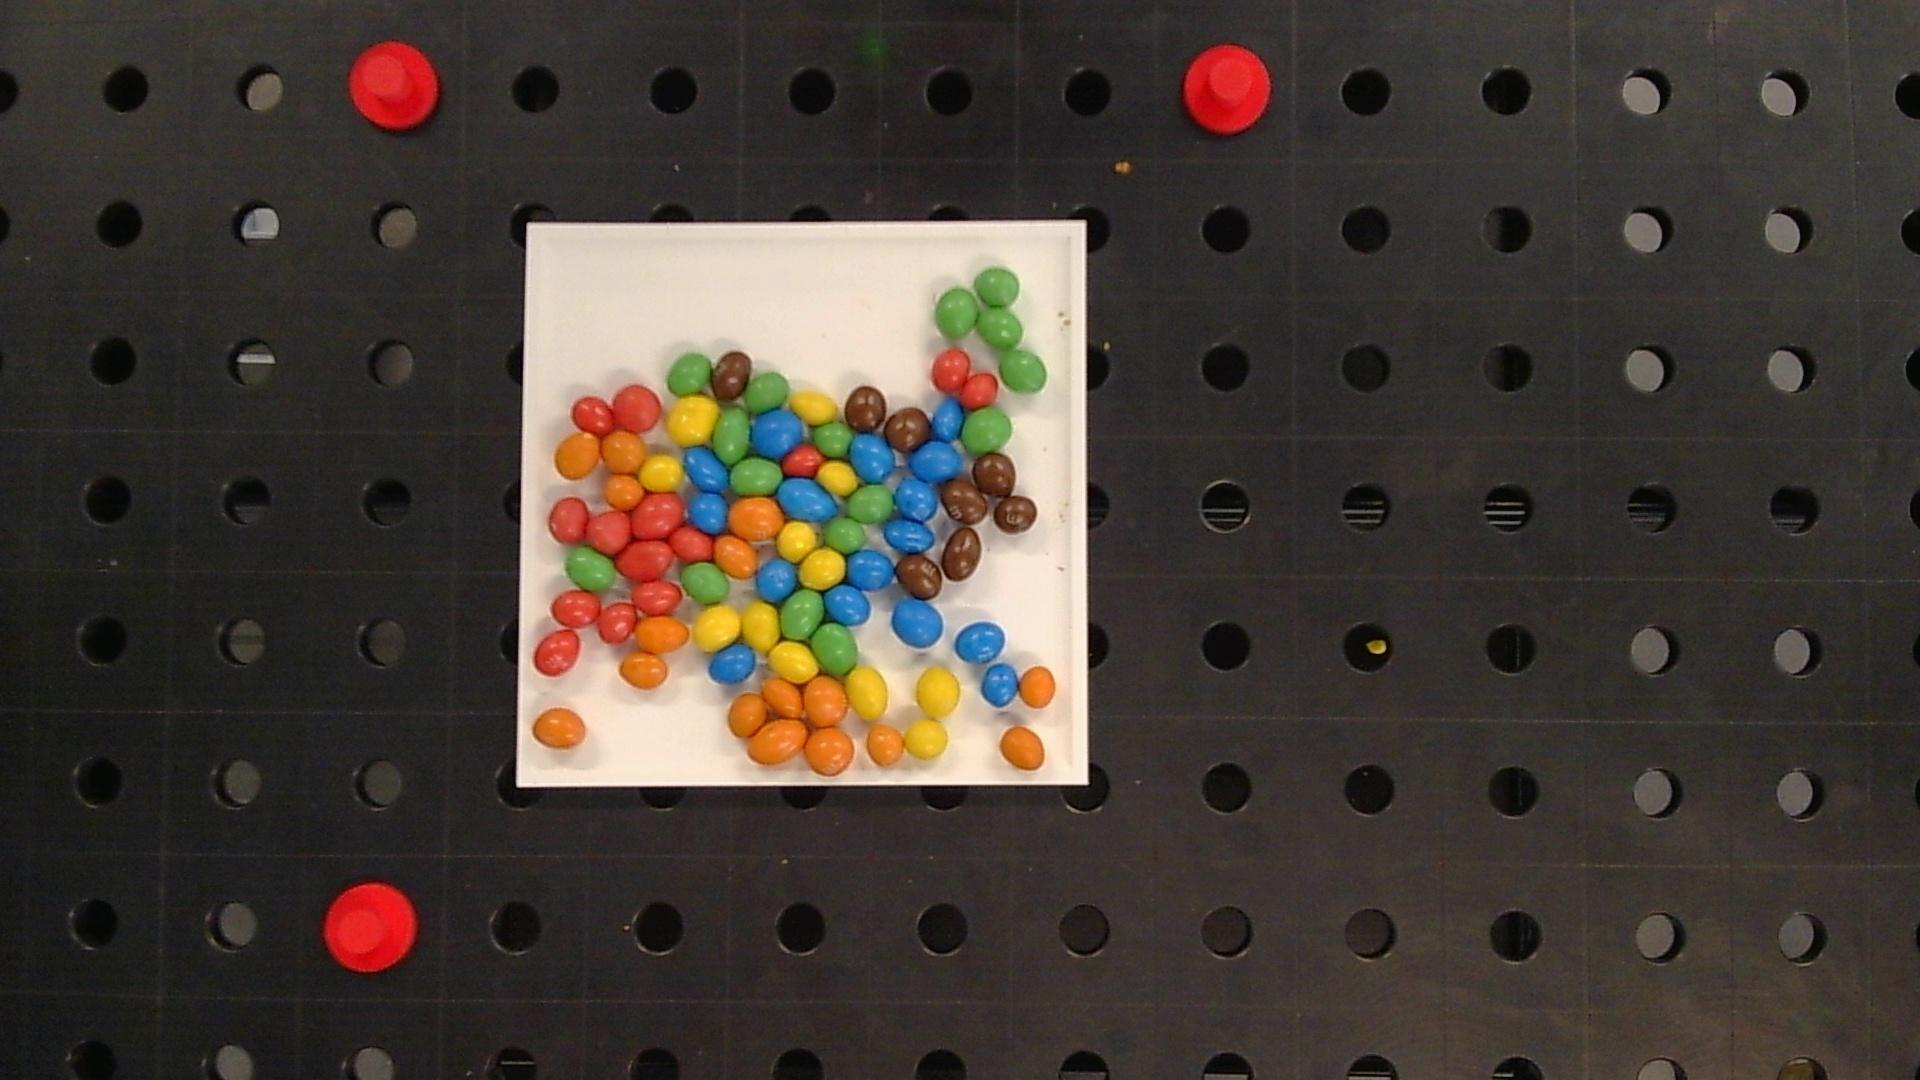blue: (885, 520, 942, 599), (778, 476, 837, 520), (891, 599, 943, 647), (753, 410, 803, 456), (909, 440, 961, 481), (955, 621, 1005, 663), (851, 434, 894, 481), (844, 550, 893, 592), (894, 477, 939, 522), (683, 447, 728, 491), (708, 644, 757, 683), (825, 585, 870, 625), (757, 559, 798, 601), (688, 491, 728, 531), (981, 665, 1019, 707), (932, 398, 964, 440)
brown: (942, 527, 981, 582), (885, 406, 931, 451), (942, 479, 986, 525), (711, 351, 752, 400), (897, 555, 942, 599), (845, 385, 886, 433), (975, 452, 1014, 497), (994, 496, 1038, 534)
green: (812, 622, 858, 674), (935, 287, 978, 340), (564, 547, 616, 591), (964, 409, 1011, 452), (781, 589, 823, 638), (680, 563, 731, 604), (1000, 349, 1047, 392), (713, 407, 749, 463), (731, 458, 782, 495), (667, 352, 711, 394), (975, 268, 1019, 307), (745, 372, 789, 411), (848, 485, 894, 522), (981, 307, 1022, 348), (812, 421, 853, 456), (827, 516, 864, 554)
orange: (748, 719, 807, 765), (804, 728, 855, 774), (533, 708, 587, 748), (731, 497, 782, 538), (555, 434, 600, 479), (804, 678, 847, 725), (1000, 727, 1044, 770), (713, 534, 758, 578), (634, 616, 688, 651), (620, 653, 669, 688), (865, 724, 905, 766), (603, 431, 645, 471), (728, 692, 766, 735), (1019, 666, 1056, 707), (762, 678, 802, 715), (605, 475, 644, 509)
red: (632, 493, 684, 538), (617, 541, 673, 580), (613, 385, 661, 430), (534, 630, 580, 675), (588, 510, 630, 553), (551, 591, 600, 626), (549, 498, 588, 542), (596, 604, 637, 644), (932, 349, 969, 392), (633, 582, 679, 615), (572, 397, 613, 434), (670, 526, 713, 559), (781, 444, 822, 476), (960, 373, 997, 406)
yellow: (667, 396, 717, 444), (847, 667, 887, 720), (916, 667, 960, 716), (694, 605, 740, 650), (770, 642, 819, 682), (800, 549, 845, 589), (741, 603, 779, 649), (905, 720, 948, 758), (777, 522, 818, 560), (818, 462, 858, 496), (641, 455, 682, 489), (791, 392, 837, 421)
